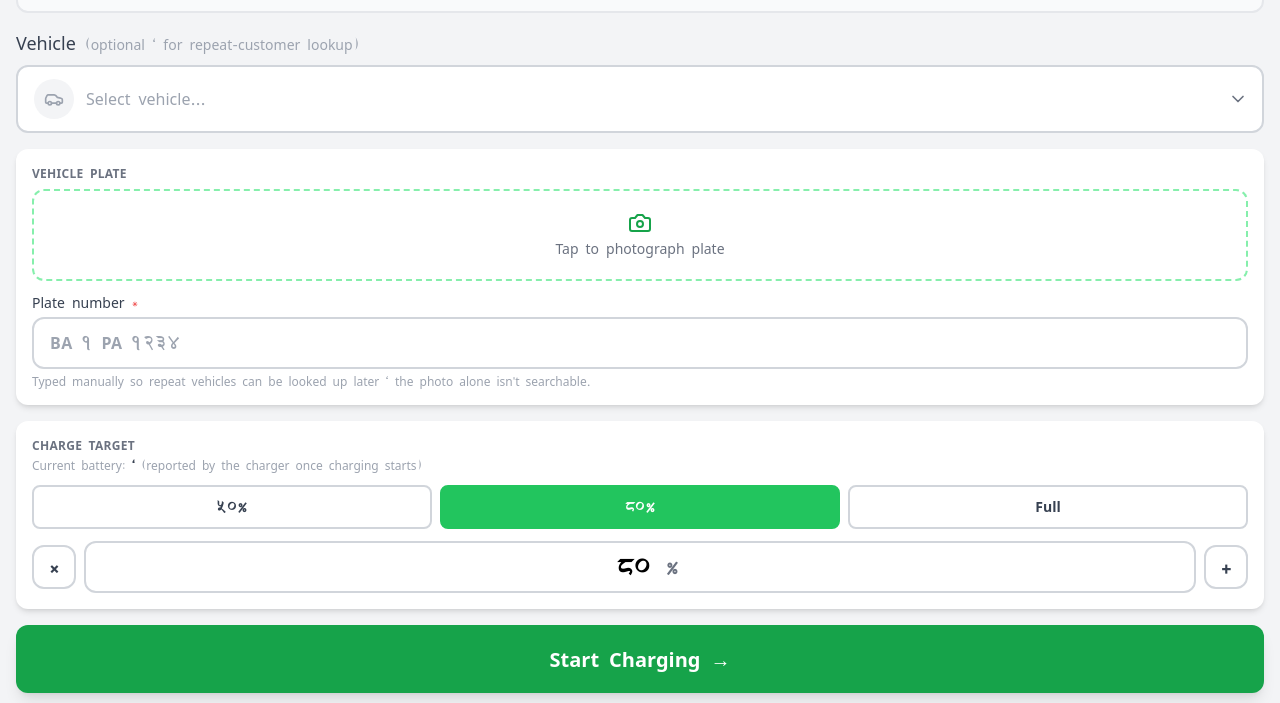
EVEntryPage › starting a session › asks for a charger first and sends nothing
The width and height of the screenshot is (1280, 703).
(page scrolled)
Type "BA 1" into the field labelled "Plate number *" at (640, 343), box [32,317,1248,369]
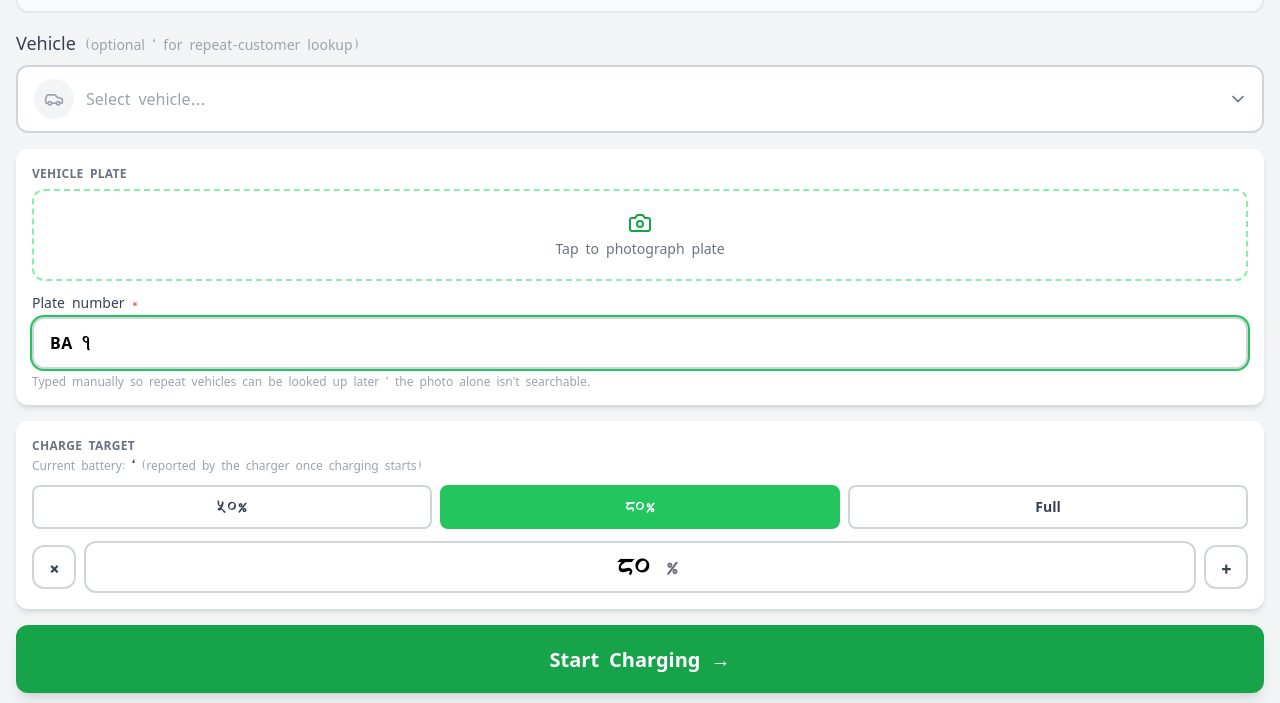
Click the button "Start Charging →" at (640, 659), box [16,625,1264,693]
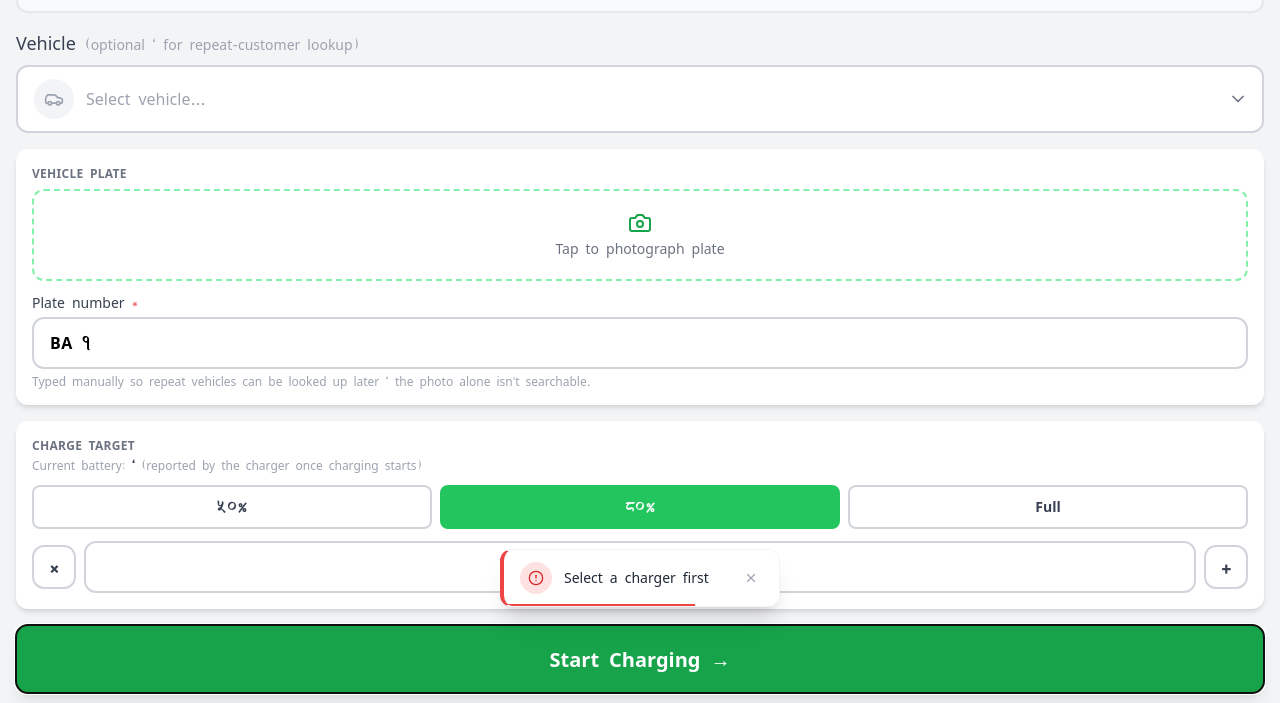
Expected: the text "Select a charger first" is shown, [564,568,727,588]
